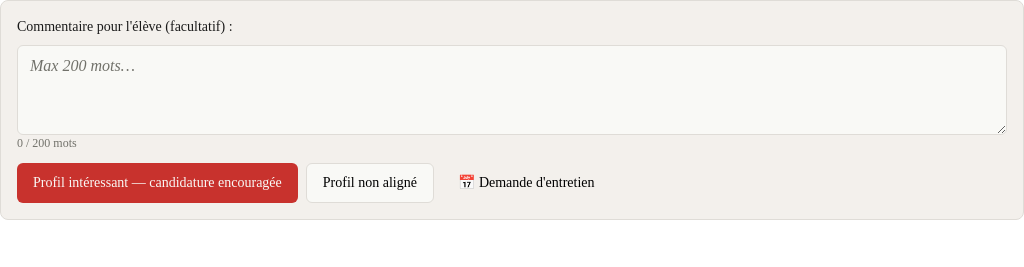
it: EcoleRespondForm › requires at least 2 slots for an interview request
The width and height of the screenshot is (1024, 267).
Click the button "📅 Demande d'entretien" at (526, 183), box left=442, top=163, right=610, bottom=203
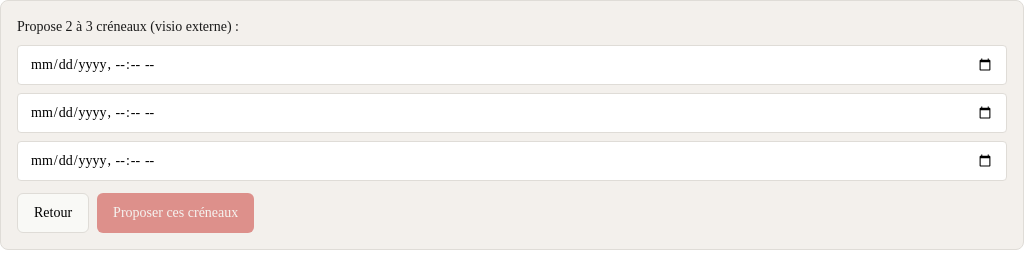
Now the button "Proposer ces créneaux" is disabled, box left=97, top=193, right=254, bottom=233
